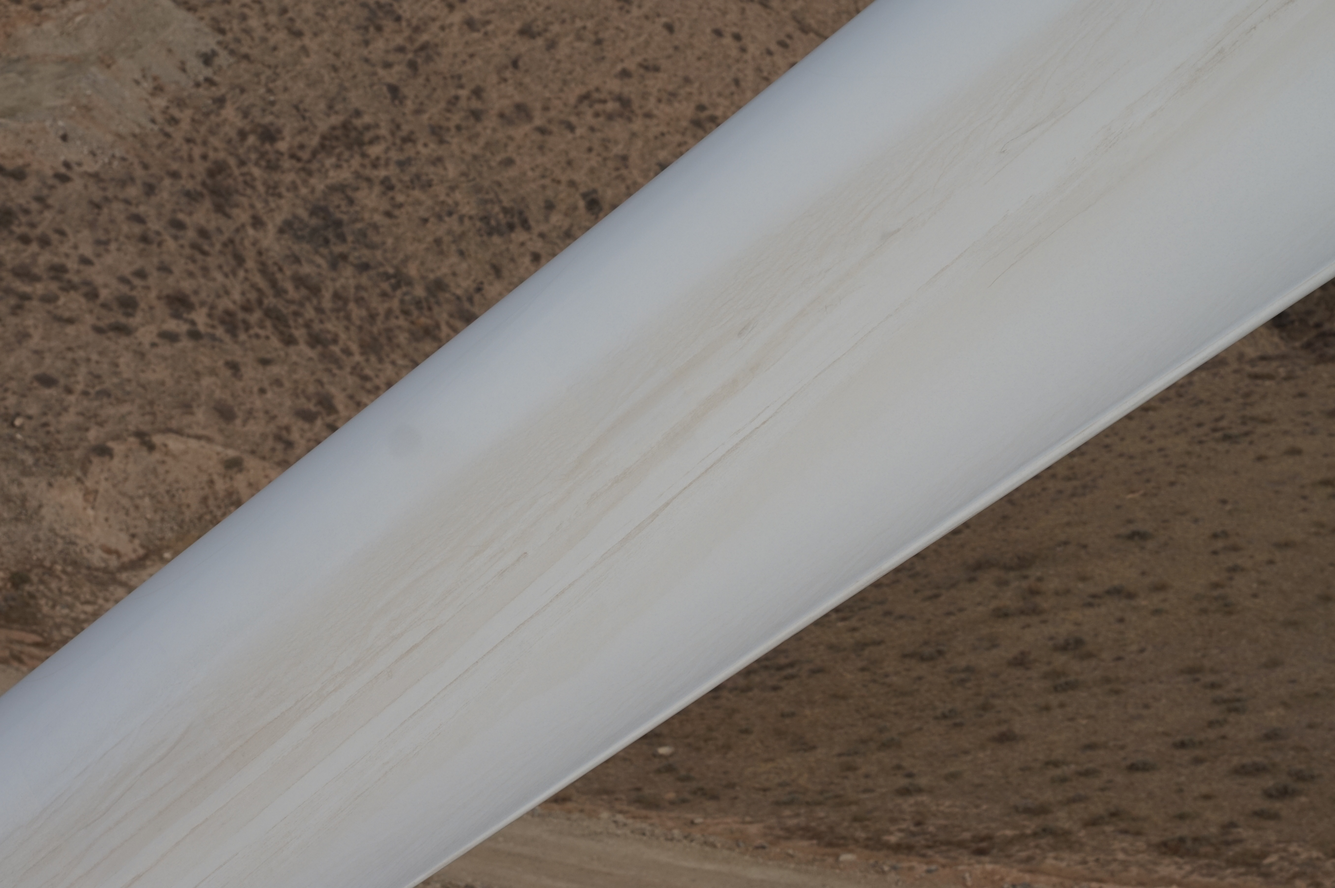Dirt: (2, 0, 1322, 888)
